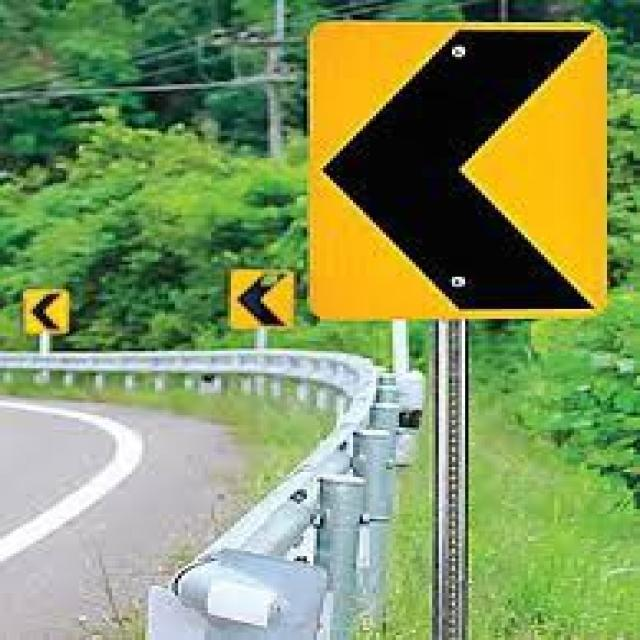chevron_left: (310, 20, 612, 318)
